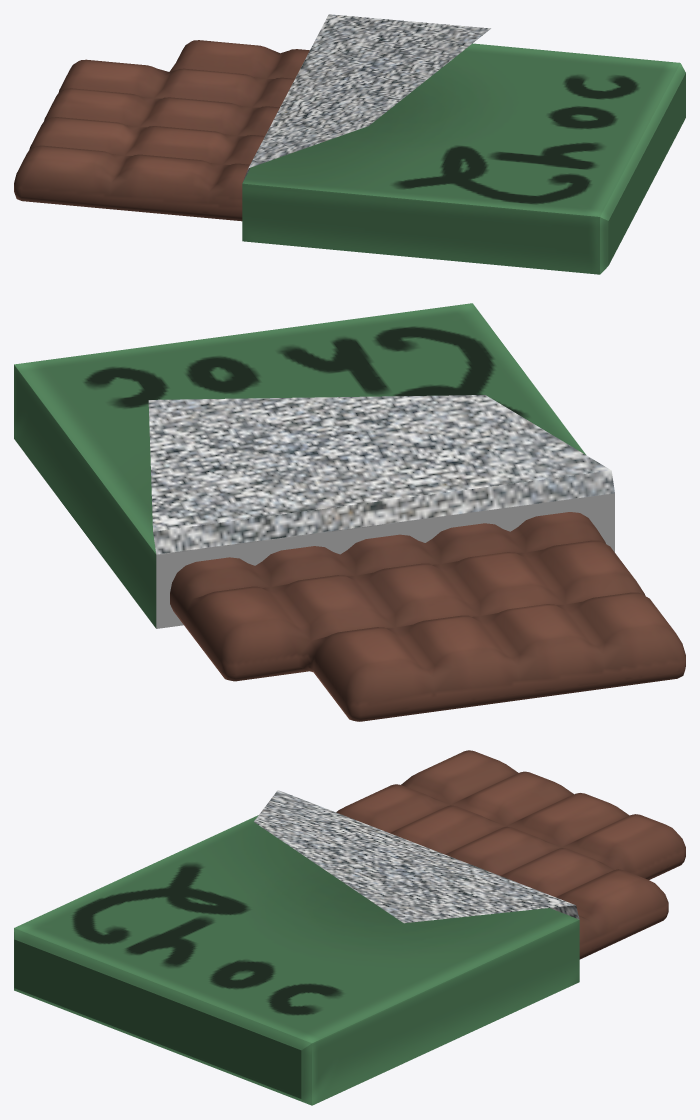
Rendered from Chocolate.glb.
The picture shows the model from 3 angles, top to bottom: view 1: azimuth 30°, elevation 25°; view 2: azimuth 150°, elevation 25°; view 3: azimuth 270°, elevation 25°; orthographic projection. The views are drawn at different scales.
Parts seen in each view (by area): view 1: chocolate; view 2: chocolate; view 3: chocolate.
Part boxes in pixels (left/top/right/bottom): chocolate: left=14, top=14, right=685, bottom=274; chocolate: left=14, top=303, right=685, bottom=721; chocolate: left=14, top=750, right=685, bottom=1105.
Bounding box in the file's own units: 1.21 × 0.1882 × 1.09.
1 material, 1 textured.
